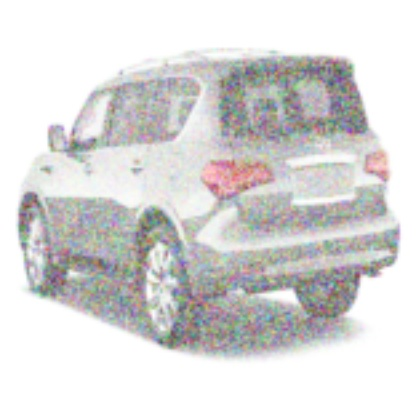Vehicle: (16, 46, 404, 352)
